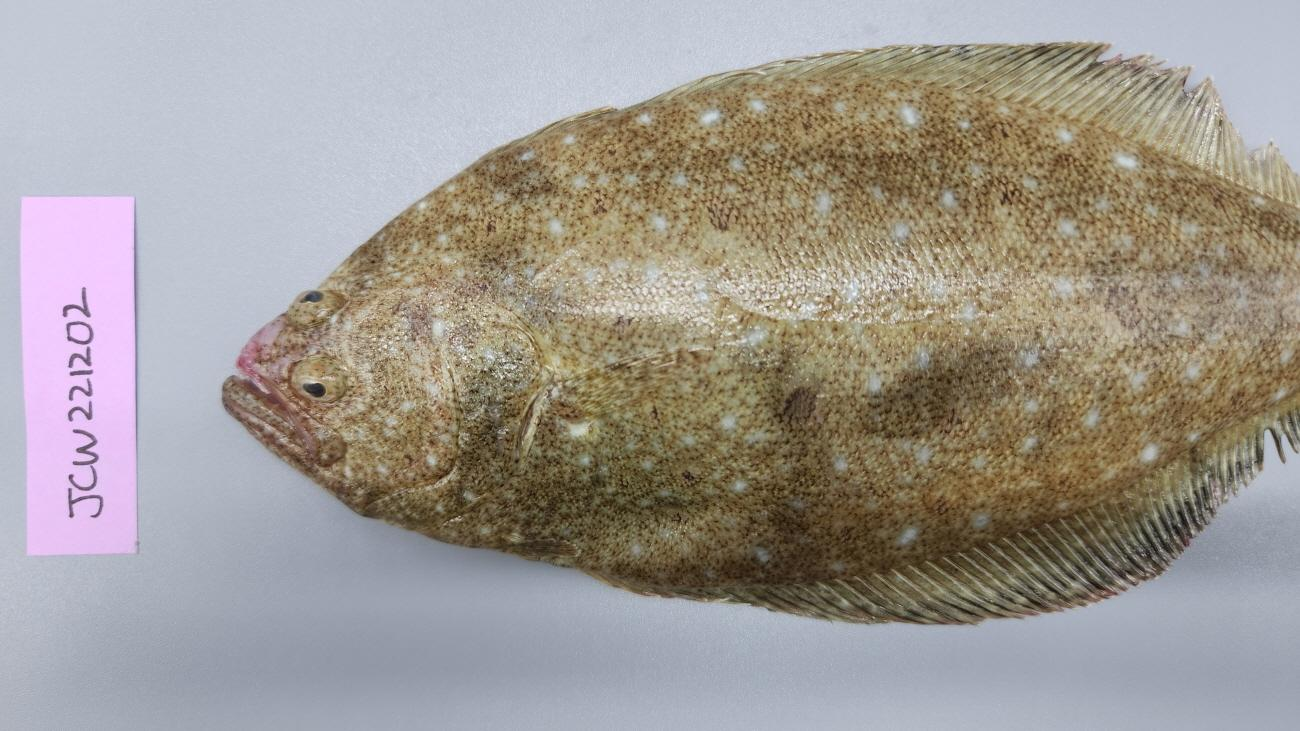VIMOU: (236, 317, 298, 410)
